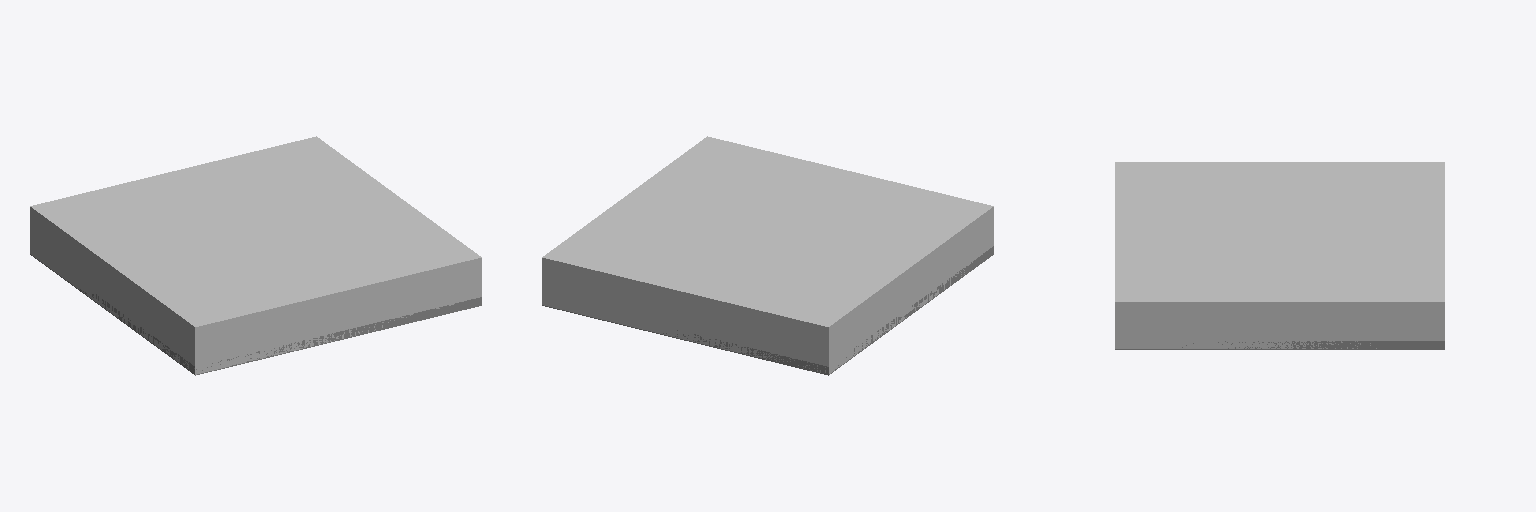
The model's file is sp_contain01.obj.
The picture shows the model from 3 angles: view 1: azimuth 30°, elevation 25°; view 2: azimuth 150°, elevation 25°; view 3: azimuth 270°, elevation 25°; orthographic projection.
Parts seen in each view (by area): view 1: (null); view 2: (null); view 3: (null).
Part boxes in pixels (x1,y1,x2,y2): (null): (30,136,481,375); (null): (542,136,993,375); (null): (1115,162,1444,349).
Bounding box in the file's own units: 29.66 × 4.77 × 29.66.